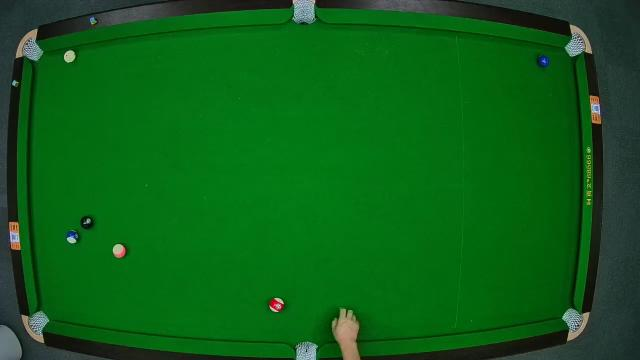bag1: (22, 38, 44, 60)
bag2: (291, 0, 317, 26)
bag3: (566, 29, 588, 57)
bag4: (29, 310, 49, 334)
bag5: (294, 340, 320, 360)
bag6: (563, 308, 585, 332)
ball0: (62, 48, 78, 64)
ball10: (64, 229, 80, 244)
ball11: (269, 295, 285, 313)
ball12: (112, 242, 128, 260)
ball2: (536, 54, 552, 70)
ball8: (80, 214, 96, 230)
